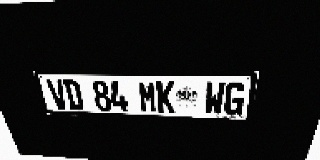4: (108, 80, 129, 112)
8: (91, 80, 112, 111)
D: (62, 80, 85, 110)
G: (223, 82, 247, 116)
K: (156, 81, 175, 113)
M: (138, 81, 157, 113)
V: (46, 79, 69, 110)
W: (204, 81, 226, 115)
